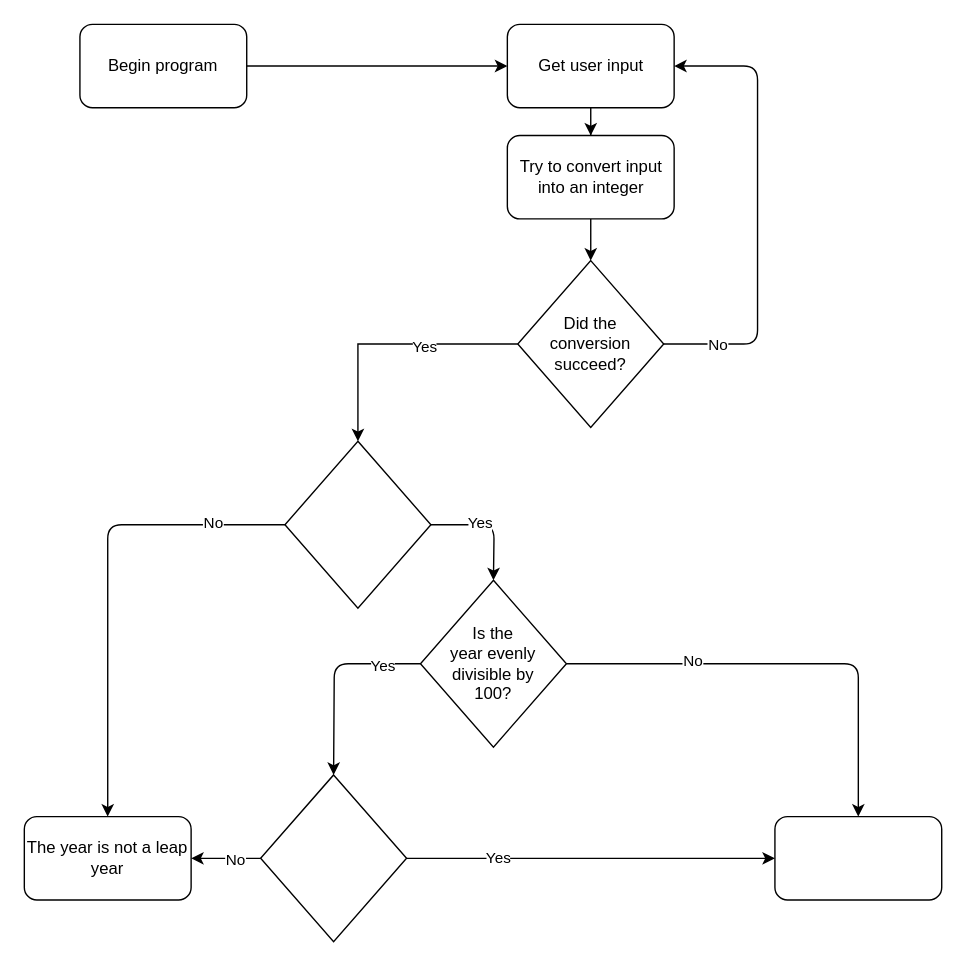
Some shapes in this 966 by 966 pixel diagram are drawn without their labels. The centre of each missing label's shape, as x and y in pixels:
Is the year evenly divisible by 400?: the point at 333,858
Is the year evenly divisible by 4?: the point at 357,524
The year is a leap year: the point at 858,857
